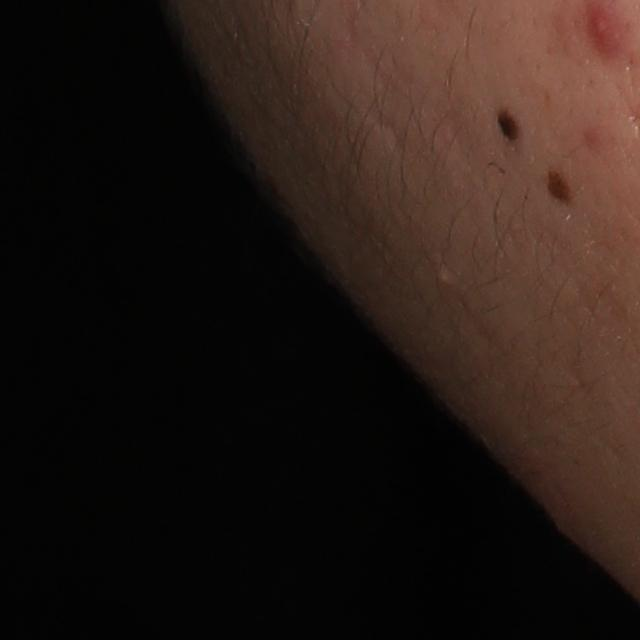nevus: (541, 164, 570, 206), (494, 107, 524, 145)
papule: (584, 5, 622, 55)
